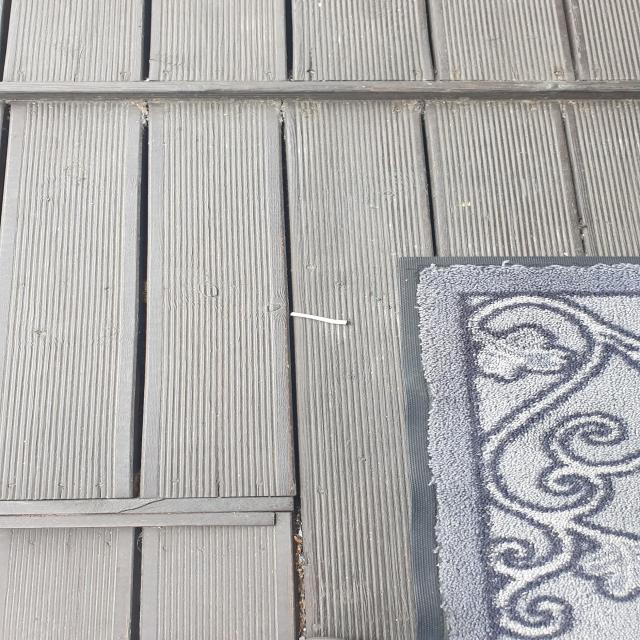litter: (289, 311, 348, 325)
